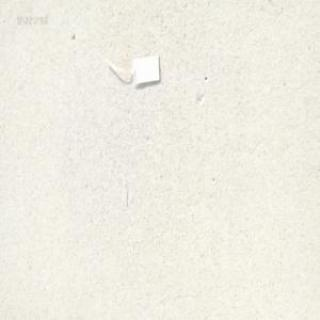LuggageTagtrack_idkeyframe: (105, 50, 162, 86)
